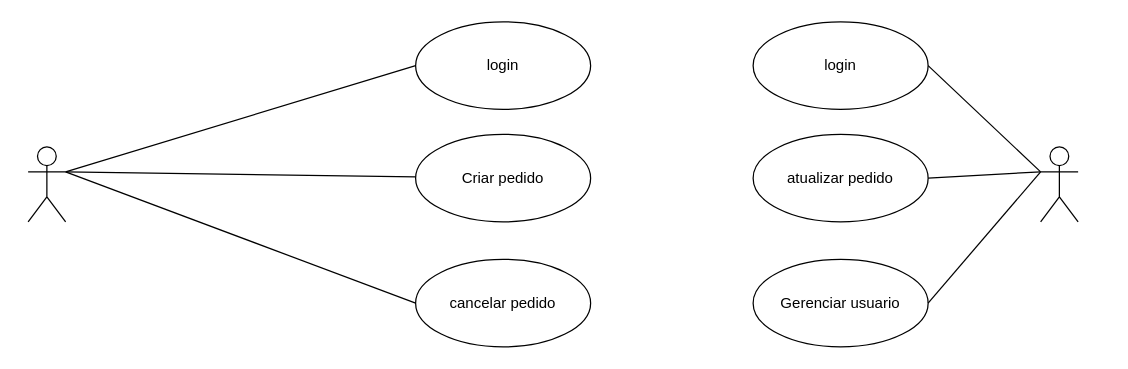
Some shapes in this 1128 by 369 pixel diagram are drawn without their labels. The centre of each missing label's shape, as x and y in pixels:
"Administrador" belongs at pixel 1058 184.
"Usuario" belongs at pixel 46 184.
